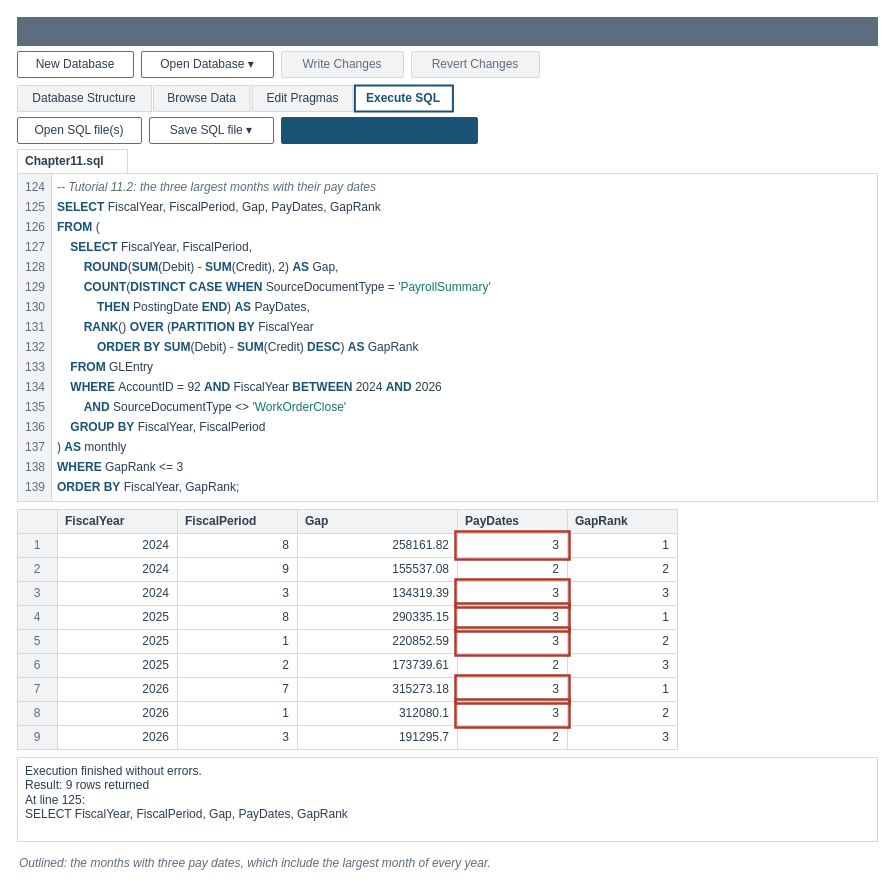
Some shapes in this 895 by 891 pixel diagram are drawn without their labels. The centre of each missing label's shape, as x and y in pixels:
"DB Browser for SQLite - C:\Users\you\Documents\CharlesRiver_Work.sqlite" goes at point (447, 31).
"▶ Execute all/selected SQL" goes at point (379, 130).
